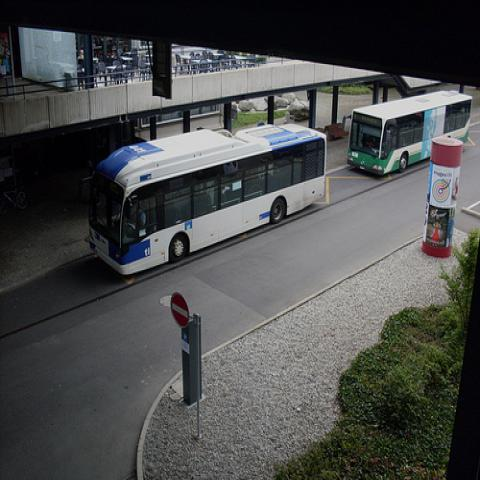bus: (84, 119, 326, 281), (340, 88, 475, 176)
